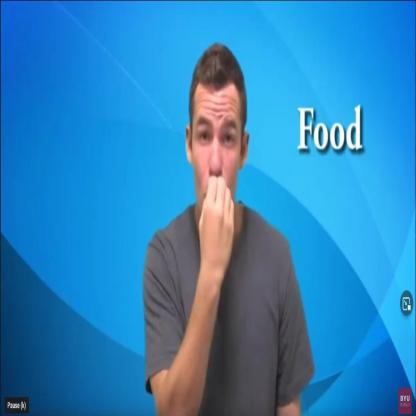Food: (180, 44, 250, 275)
